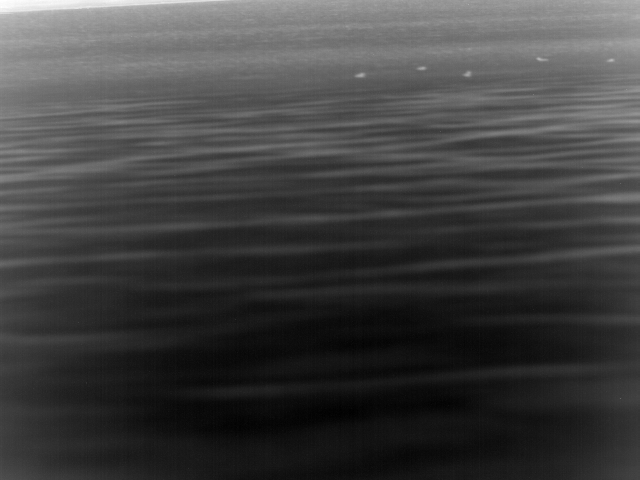dim target: (353, 72, 366, 79), (535, 56, 549, 62), (462, 70, 471, 78), (415, 65, 426, 71), (606, 57, 615, 63)
